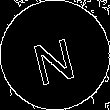N_N: (30, 26, 80, 84)
